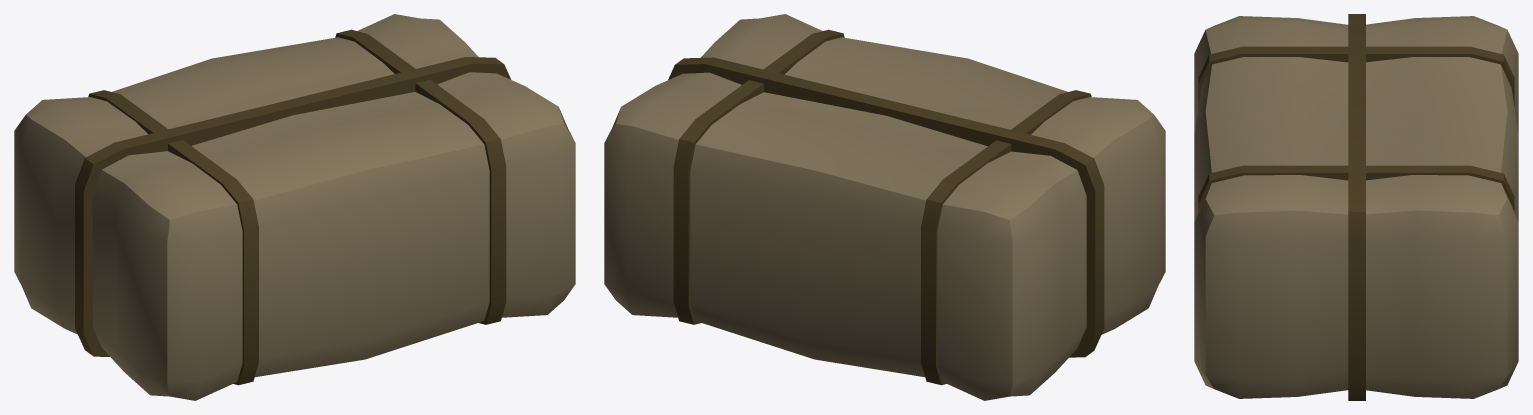
File: Package_1.glb
3 renders of one model, left to right at view 1: azimuth 30°, elevation 25°; view 2: azimuth 150°, elevation 25°; view 3: azimuth 270°, elevation 25°, orthographic.
Visible parts, largest first — view 1: Package_1_Cube.262; view 2: Package_1_Cube.262; view 3: Package_1_Cube.262.
Part boxes in pixels (x1=…): Package_1_Cube.262: x1=14, y1=14, x2=575, y2=400; Package_1_Cube.262: x1=604, y1=14, x2=1165, y2=400; Package_1_Cube.262: x1=1194, y1=14, x2=1518, y2=400.
Bounding box in the file's own units: 0.2789 × 0.1291 × 0.1845.
